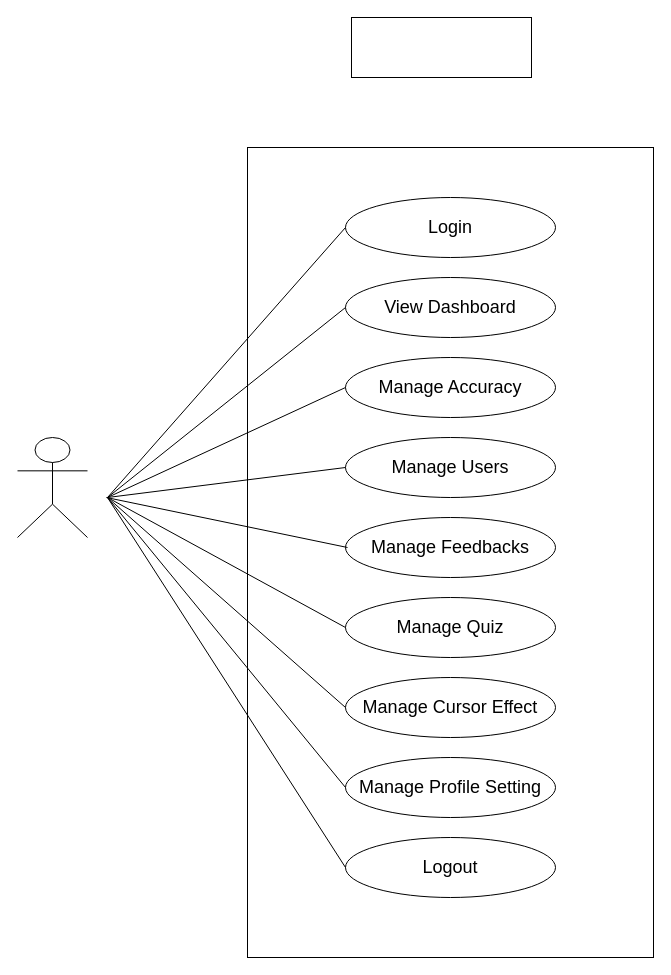
The diagram is 671 pixels wide and 975 high, and some of its shapes have lost their labels. The centre of each missing label's shape, as x and y in pixels:
ADMIN: point 52,487
ADMIN USECASE: point 441,47
